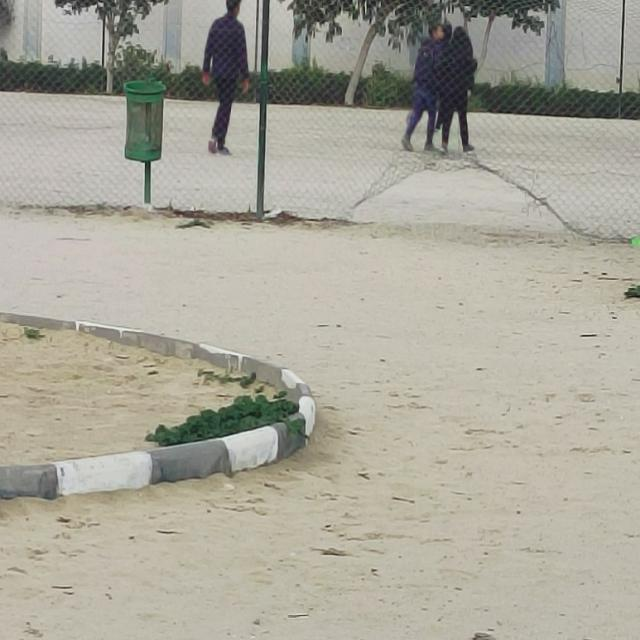fence line: (354, 163, 566, 232)
